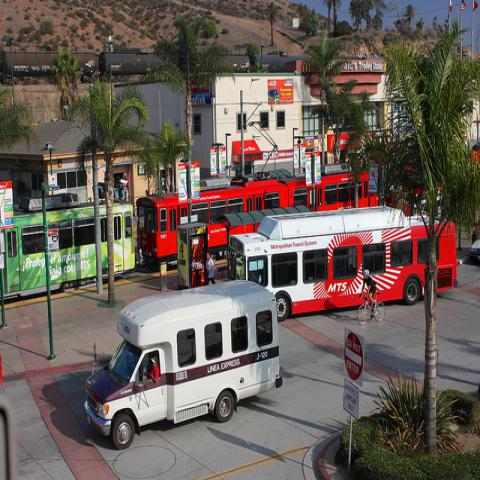bus: (81, 281, 282, 451), (230, 205, 458, 320)
car: (469, 238, 479, 266)
